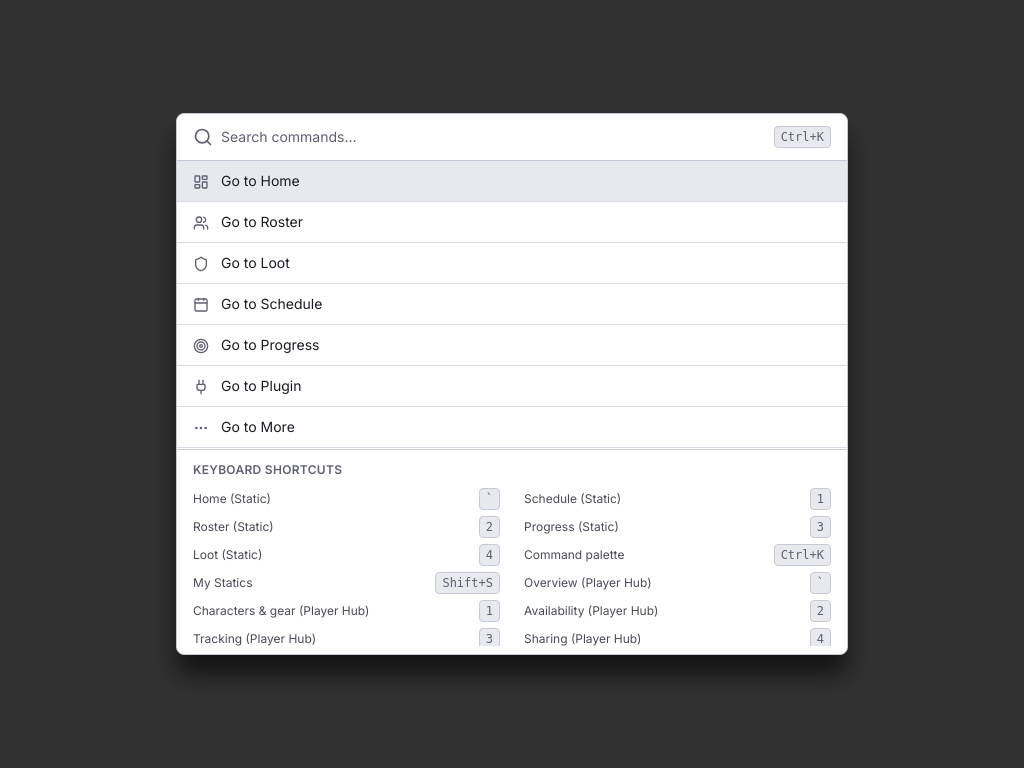
Test: CommandPalette Open Settings gate (GUEST-1 R-G1-5) › a signed-in user typing "settings" gets "Open Settings"
The image size is (1024, 768).
Type "settings" into the dropdown labelled "Search commands" at (493, 137), box [221,127,766,147]
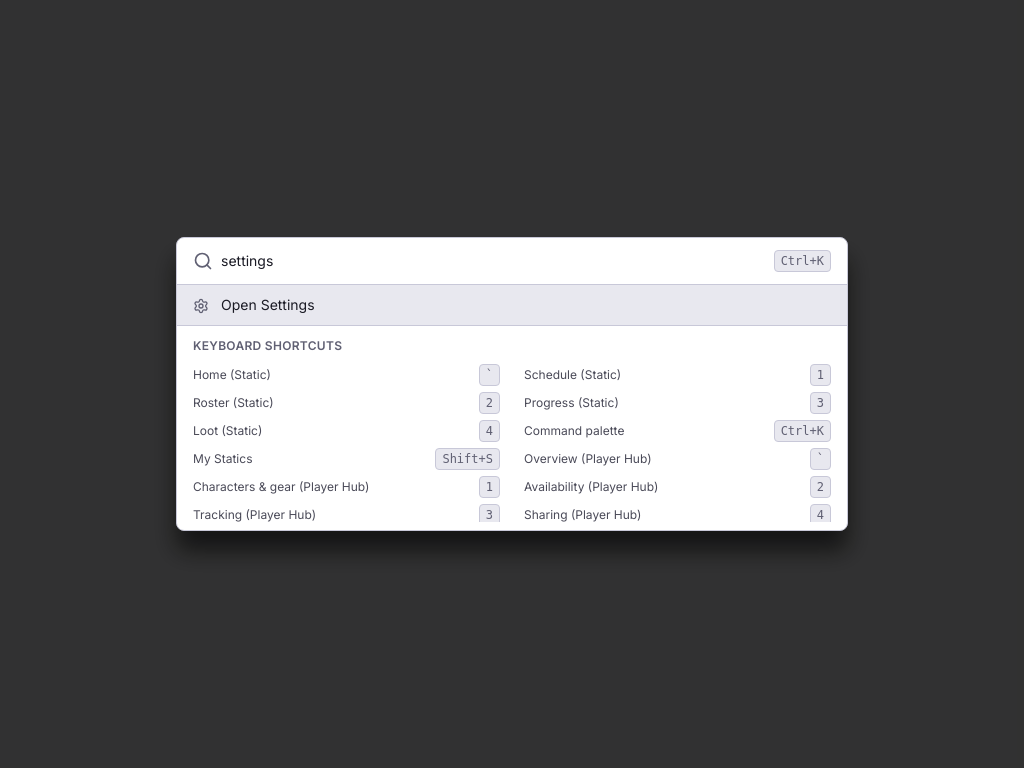
Expected: the text "Open Settings" is shown, [221,296,315,313]
